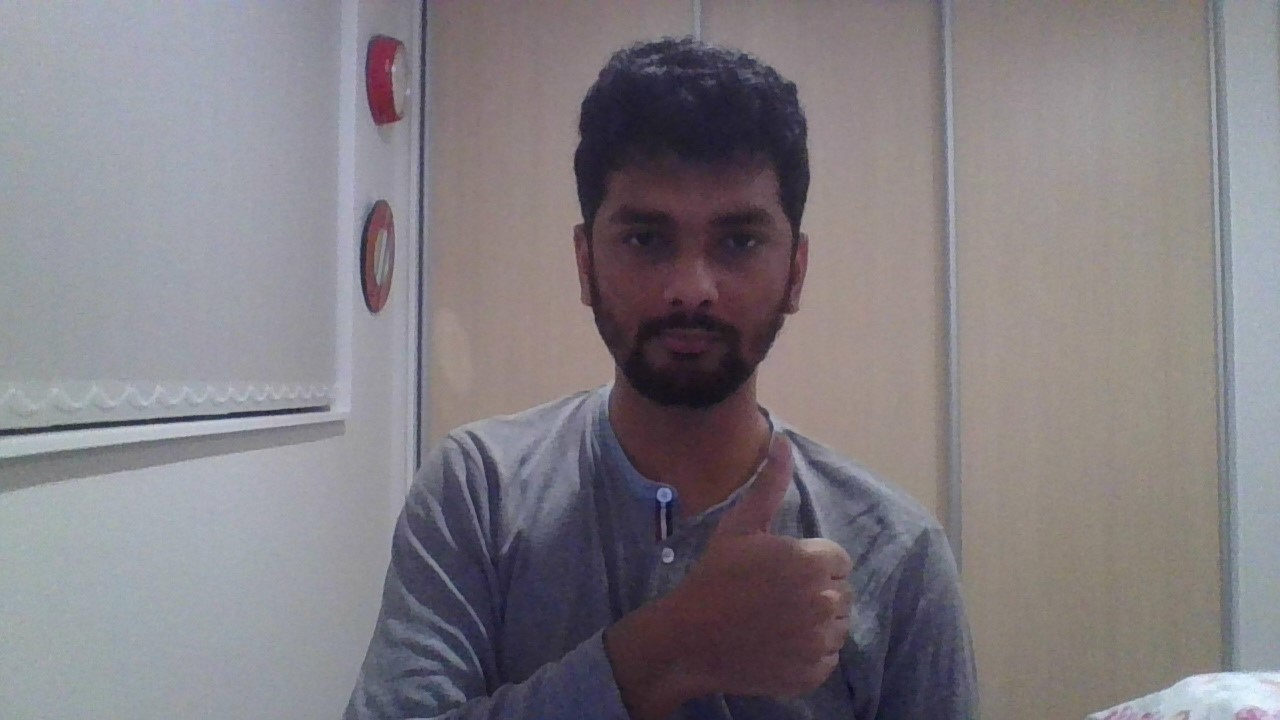good: (663, 434, 853, 694)
